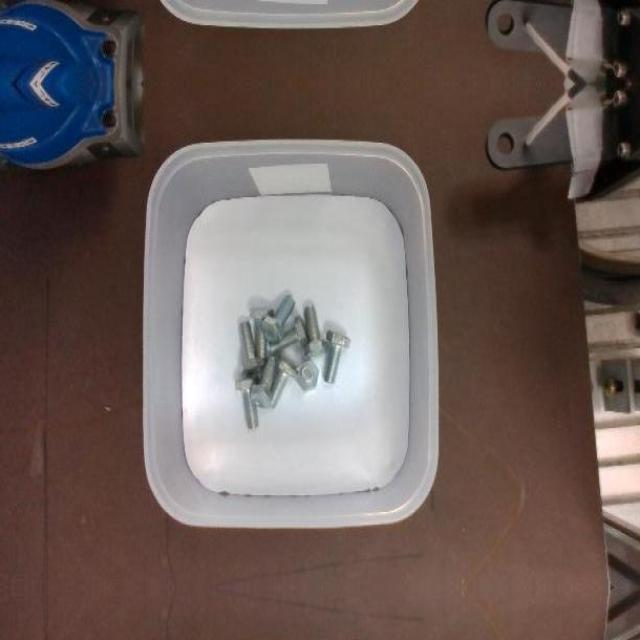screw: (262, 293, 297, 343), (324, 331, 350, 384), (250, 356, 276, 408), (240, 320, 264, 373), (304, 306, 328, 358), (295, 359, 319, 391)
